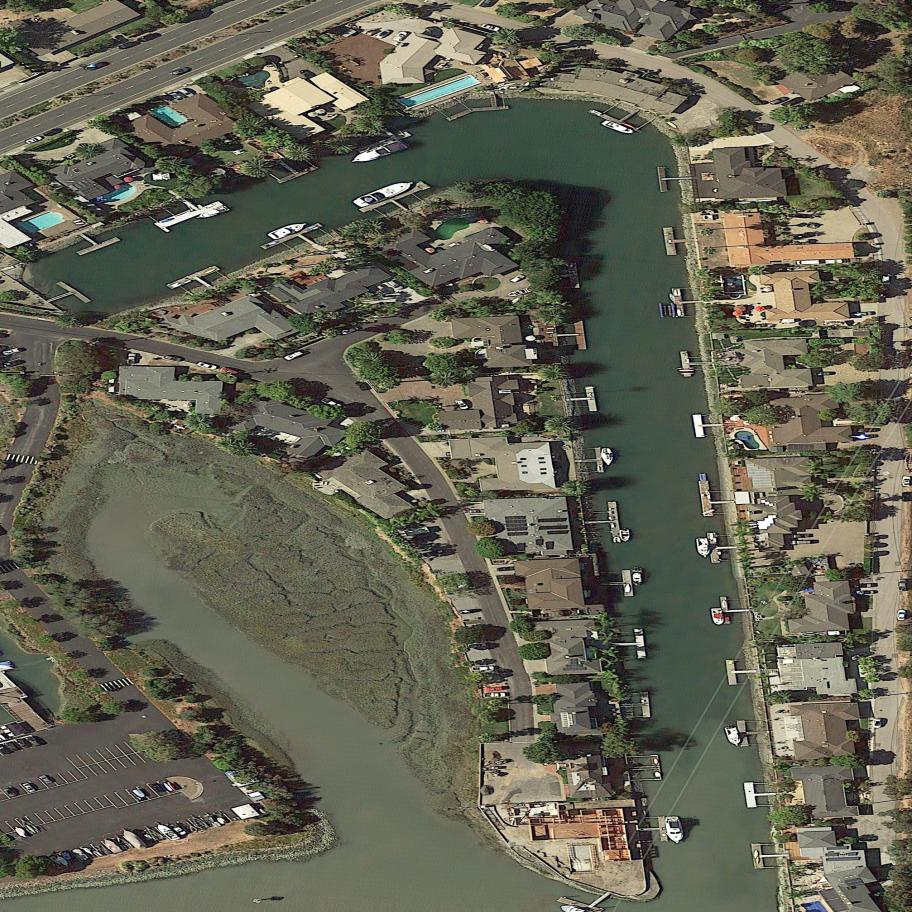ship: (351, 176, 418, 211), (348, 138, 409, 167), (267, 219, 310, 242), (118, 824, 149, 854), (599, 118, 637, 139), (194, 203, 231, 223), (154, 819, 181, 844), (665, 814, 685, 845), (724, 723, 742, 749), (102, 835, 123, 857), (10, 823, 32, 843), (70, 845, 92, 864), (504, 286, 535, 299), (695, 536, 712, 559), (54, 851, 72, 870), (131, 784, 148, 801), (711, 608, 726, 627), (630, 568, 645, 587), (600, 447, 614, 467), (166, 779, 180, 793), (161, 780, 174, 794), (620, 529, 631, 543), (623, 583, 631, 593), (613, 536, 620, 543)
small-vehicle: (780, 94, 806, 111), (383, 277, 407, 294), (136, 30, 163, 45), (170, 821, 191, 840), (391, 27, 410, 46), (36, 769, 55, 788), (1, 784, 20, 802), (3, 738, 22, 756), (453, 395, 471, 414), (372, 26, 392, 43), (149, 779, 167, 797), (20, 779, 38, 797), (508, 271, 528, 287), (81, 61, 106, 73), (2, 357, 25, 370), (320, 397, 343, 410), (284, 349, 305, 363), (338, 325, 362, 337), (169, 65, 191, 78), (42, 126, 64, 139), (116, 39, 138, 52), (479, 22, 502, 34), (769, 94, 790, 107), (25, 733, 41, 750), (14, 736, 31, 752), (849, 651, 870, 663), (354, 378, 369, 394), (195, 361, 218, 371), (404, 496, 426, 506), (1, 346, 23, 356), (24, 134, 43, 145), (459, 607, 485, 615), (792, 122, 815, 131), (219, 366, 239, 376), (163, 354, 185, 363), (796, 259, 824, 266), (469, 665, 496, 672), (465, 641, 488, 648), (488, 684, 508, 692), (896, 609, 908, 621), (483, 692, 507, 698), (853, 582, 876, 588), (898, 579, 909, 591), (881, 274, 892, 286), (901, 476, 911, 488), (855, 590, 879, 595), (127, 353, 137, 365), (857, 434, 880, 439), (853, 311, 872, 317), (872, 718, 882, 729), (812, 371, 834, 376), (857, 428, 882, 432), (901, 492, 911, 502)
